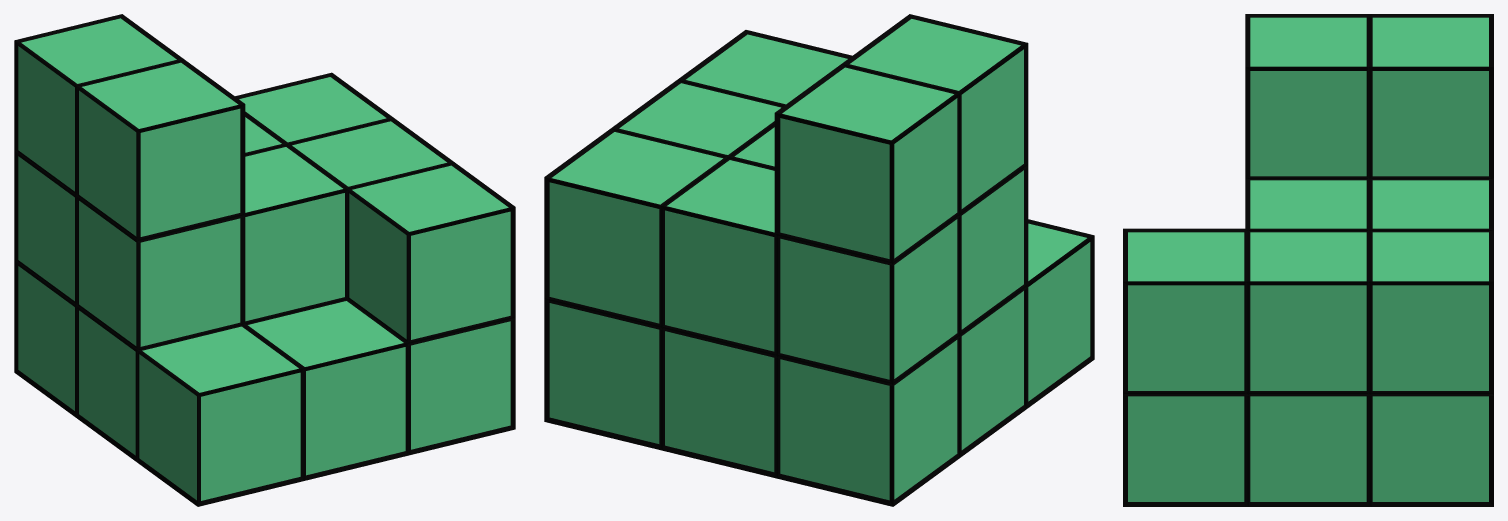
Rendered from Angabe - 5.fbx.
The picture shows the model from 3 angles, left to right: view 1: azimuth 30°, elevation 25°; view 2: azimuth 150°, elevation 25°; view 3: azimuth 270°, elevation 25°; orthographic projection. The views are drawn at different scales.
Parts seen in each view (by area): view 1: Angabe4:Mesh; view 2: Angabe4:Mesh; view 3: Angabe4:Mesh.
Boxes of the visible parts, x1,y1,x2,y2 form: Angabe4:Mesh: (14,14,515,506); Angabe4:Mesh: (544,14,1094,506); Angabe4:Mesh: (1123,14,1493,506).
Size of the model in its own units: 6.06 by 6.06 by 6.06.
